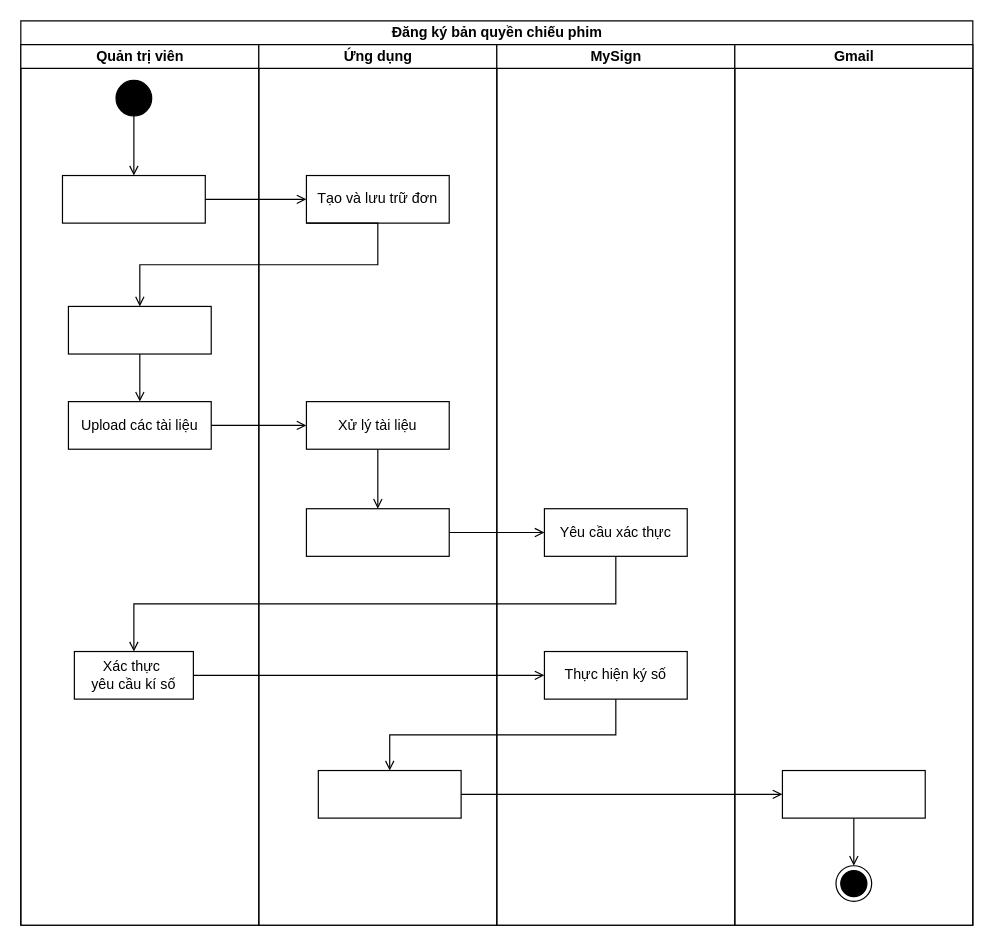
This 994x946 diagram has some shape labels left out. Here are the shapes that lost their labels. From the top down, the centre of each, then its label:
[133,198]: Chọn mẫu đơn
[139,329]: Điền thông tin phim
[377,532]: Gửi lệnh ký số
[389,793]: Văn bản đã được ký
[853,793]: Gửi cho đối tác
